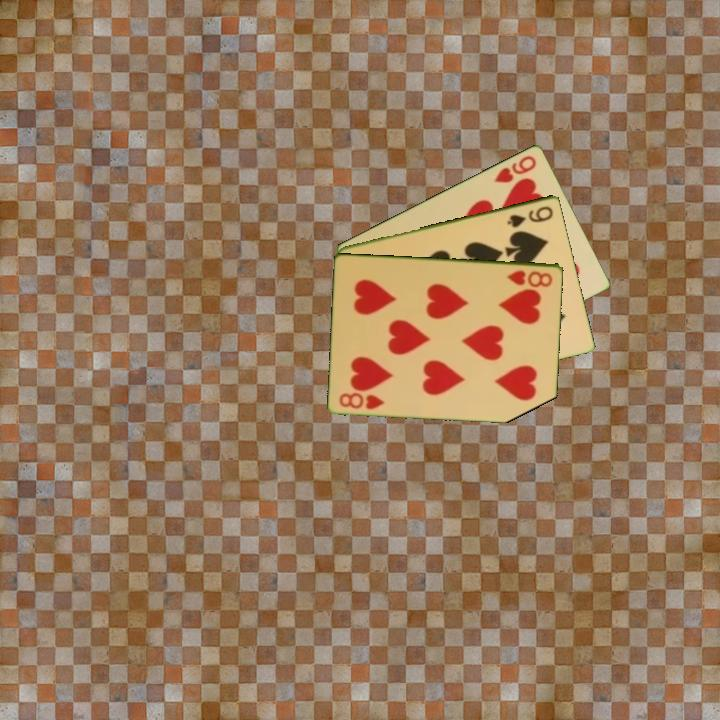8h: (503, 266, 555, 289), (336, 389, 387, 412)
9h: (491, 152, 539, 185)
9s: (504, 202, 556, 230)
